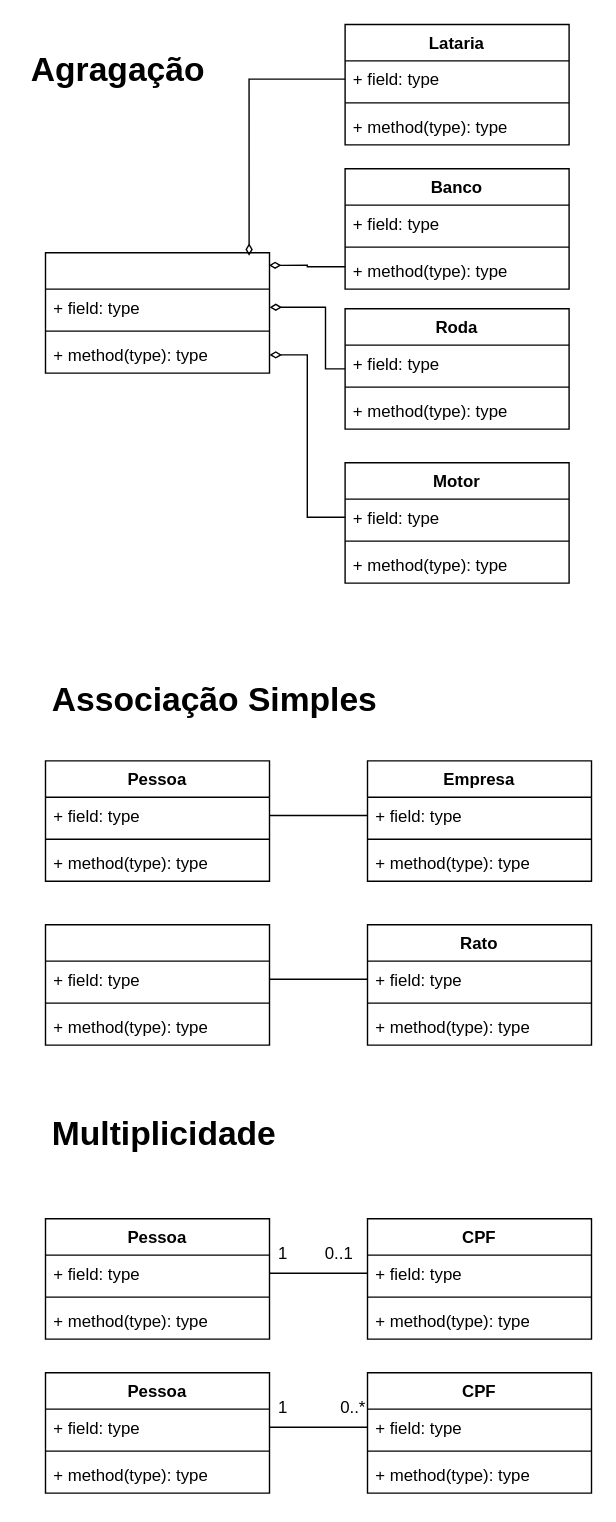
Image size: 616x1522. Some labels were removed from this diagram. The box of each missing label's shape, as (x1, y1, x2, y2) in pixels:
Carro: (44, 251, 270, 373)
Gato: (44, 923, 270, 1045)
